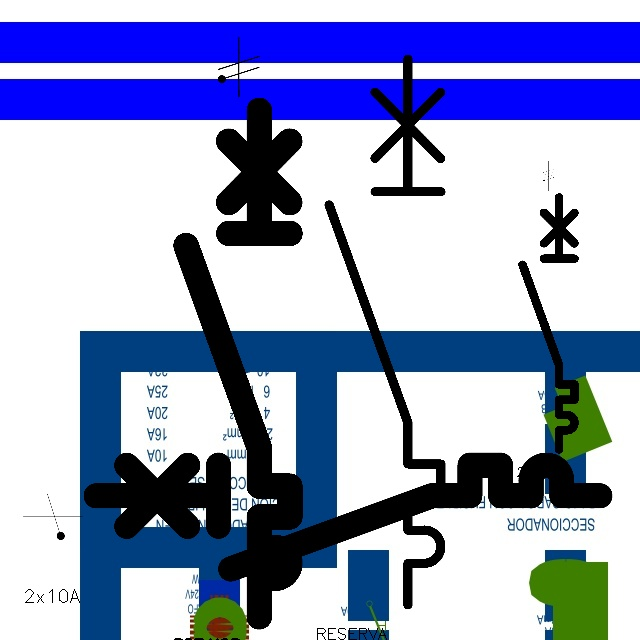interruptor_termomagnetico: (315, 45, 455, 619), (173, 97, 303, 630), (82, 452, 612, 581), (516, 191, 581, 456)
